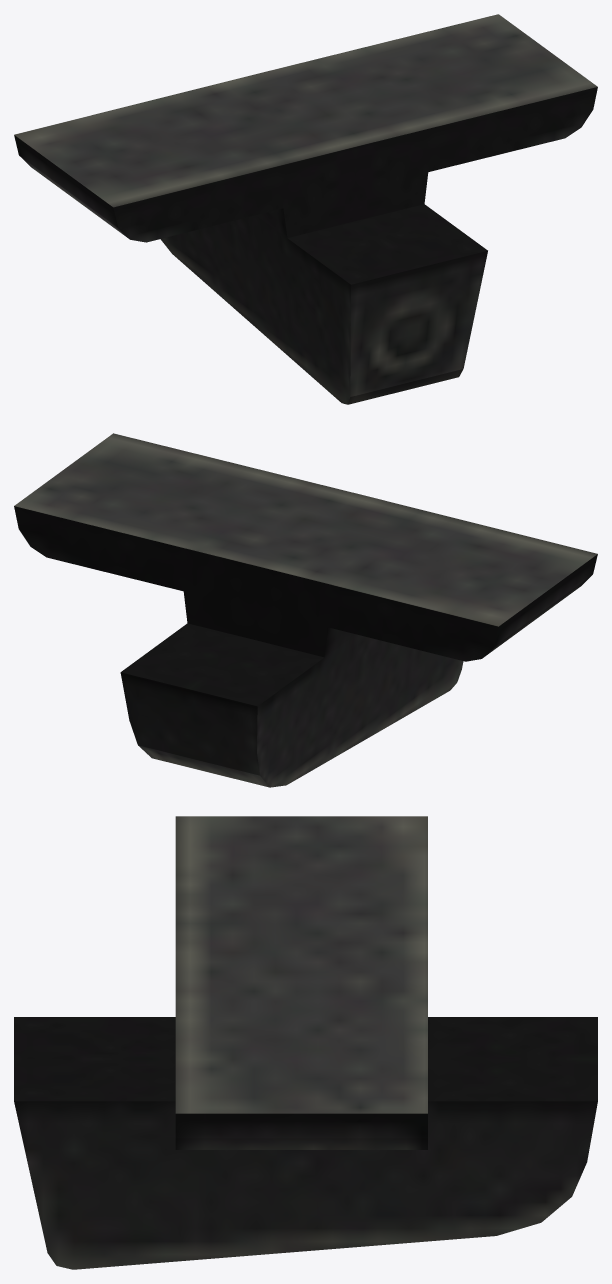
The picture shows the model from 3 angles, top to bottom: view 1: azimuth 30°, elevation 25°; view 2: azimuth 150°, elevation 25°; view 3: azimuth 270°, elevation 25°; orthographic projection. The views are drawn at different scales.
Parts seen in each view (by area): view 1: TW_56d5a661d2720bd8418b456b_PZ_Import; view 2: TW_56d5a661d2720bd8418b456b_PZ_Import; view 3: TW_56d5a661d2720bd8418b456b_PZ_Import.
Part boxes in pixels (x1,y1,x2,y2): TW_56d5a661d2720bd8418b456b_PZ_Import: [14, 14, 597, 404]; TW_56d5a661d2720bd8418b456b_PZ_Import: [14, 433, 597, 787]; TW_56d5a661d2720bd8418b456b_PZ_Import: [14, 816, 597, 1269].
Size of the model in its own units: 0.00647 by 0.00532 by 0.00274.
Materials: 1 (1 with a texture image).
